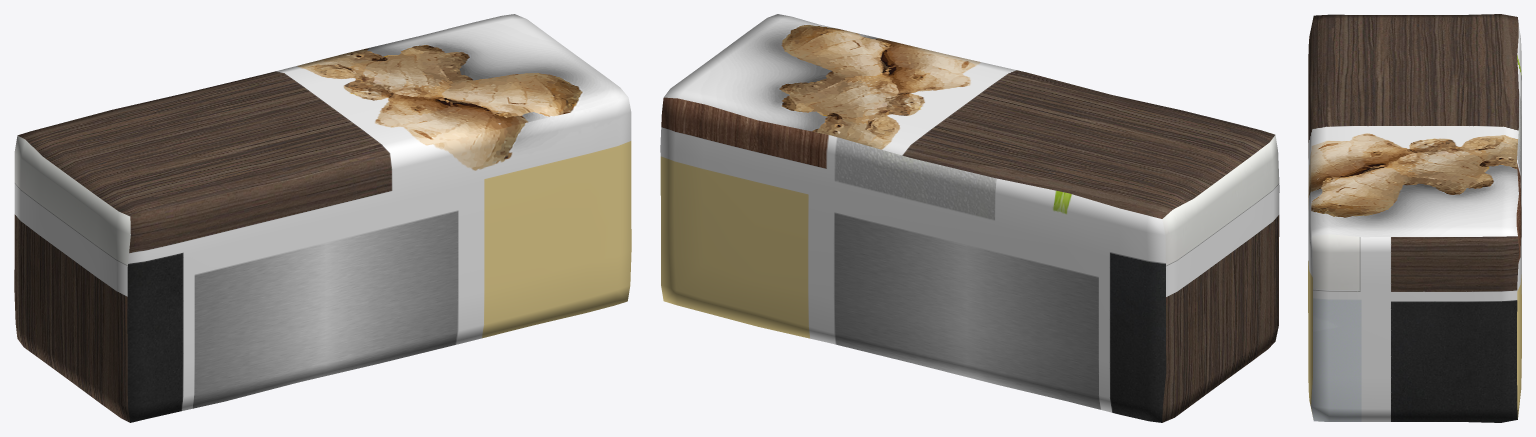
The model's file is butter_lo.fbx.
The picture shows the model from 3 angles, left to right: view 1: azimuth 30°, elevation 25°; view 2: azimuth 150°, elevation 25°; view 3: azimuth 270°, elevation 25°; orthographic projection. The views are drawn at different scales.
Parts seen in each view (by area): view 1: butter_lo; view 2: butter_lo; view 3: butter_lo.
Boxes of the visible parts, left/top/right/bottom form: butter_lo: left=14, top=14, right=631, bottom=422; butter_lo: left=660, top=14, right=1279, bottom=422; butter_lo: left=1308, top=14, right=1521, bottom=422.
Size of the model in its own units: 13.5 by 5.42 by 5.42.
1 material, 1 textured.
